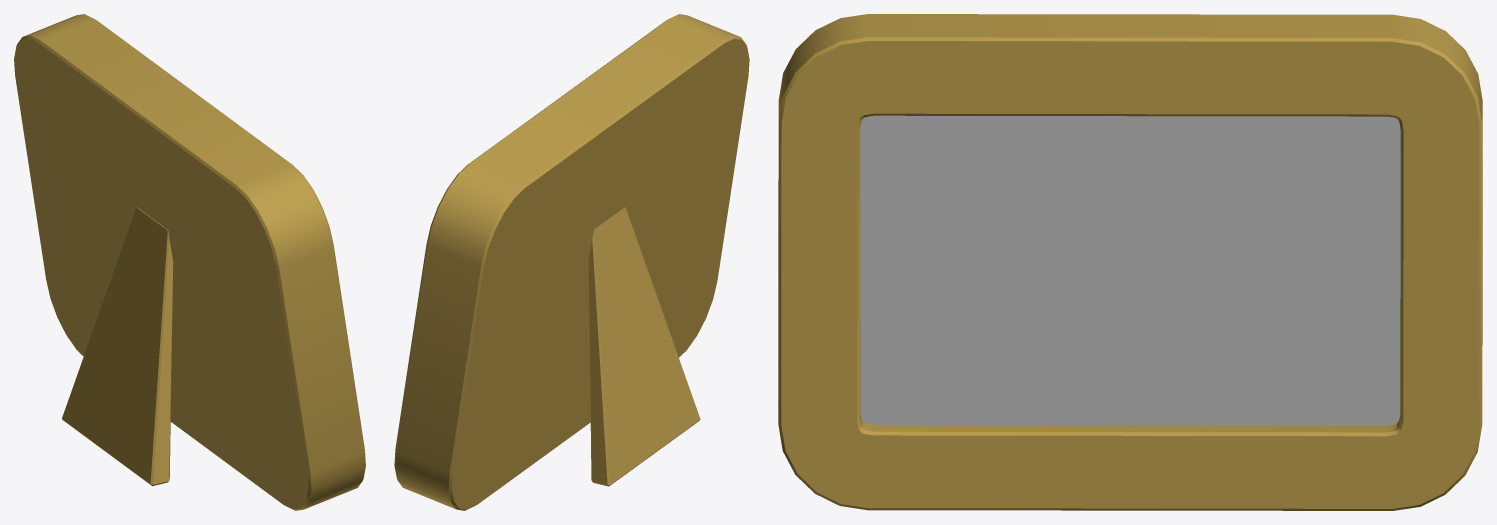
File: Picture_frame_01.glb
3 views of the same model, side by side, from view 1: azimuth 30°, elevation 25°; view 2: azimuth 150°, elevation 25°; view 3: azimuth 270°, elevation 25° (orthographic). The views are drawn at different scales.
Visible parts, largest first — view 1: Picture; view 2: Picture; view 3: Picture.
Boxes of the visible parts, x1=… form: Picture: x1=14, y1=14, x2=365, y2=510; Picture: x1=394, y1=14, x2=749, y2=510; Picture: x1=778, y1=14, x2=1482, y2=510.
Size of the model in its own units: 0.1005 by 0.2388 by 0.3363.
